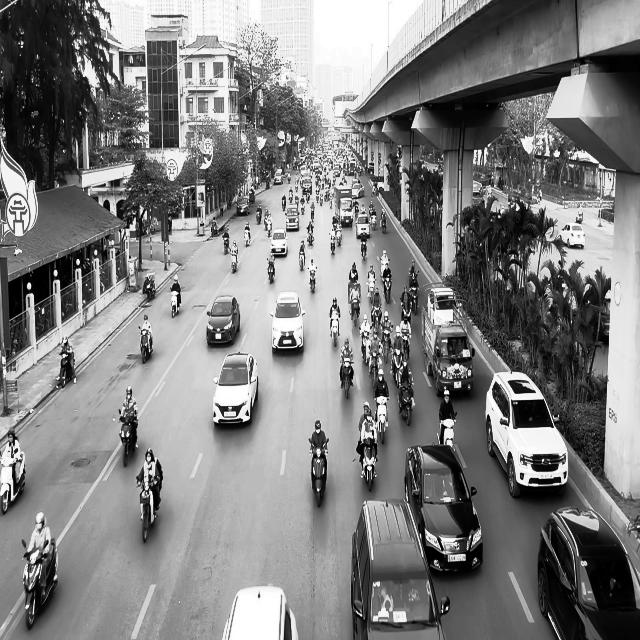car: (350, 498, 450, 639), (536, 506, 640, 640), (485, 370, 568, 498), (404, 443, 483, 573), (222, 586, 299, 640), (212, 351, 258, 426), (270, 291, 306, 354), (206, 295, 240, 346), (559, 222, 585, 248), (270, 228, 288, 256), (285, 204, 299, 230), (236, 196, 249, 215)
motorbike: (21, 538, 58, 630), (136, 474, 161, 542), (0, 450, 26, 514), (308, 438, 328, 508), (118, 409, 138, 466), (360, 439, 377, 491), (397, 380, 415, 425), (373, 396, 389, 444), (58, 351, 76, 388), (439, 412, 457, 448), (138, 326, 153, 364), (340, 358, 353, 399), (329, 310, 340, 346), (170, 288, 181, 318), (144, 273, 155, 301), (266, 257, 275, 283), (308, 265, 316, 293), (360, 233, 367, 259), (230, 251, 238, 273), (298, 246, 305, 270), (210, 220, 218, 237), (223, 236, 229, 255), (244, 230, 250, 247)
